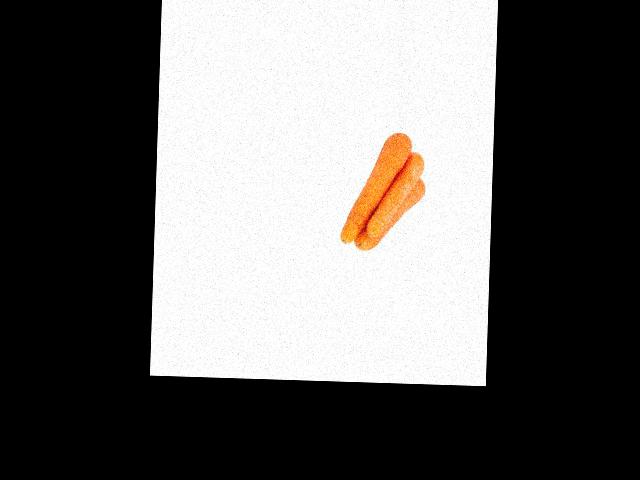carrot: (364, 150, 425, 241)
